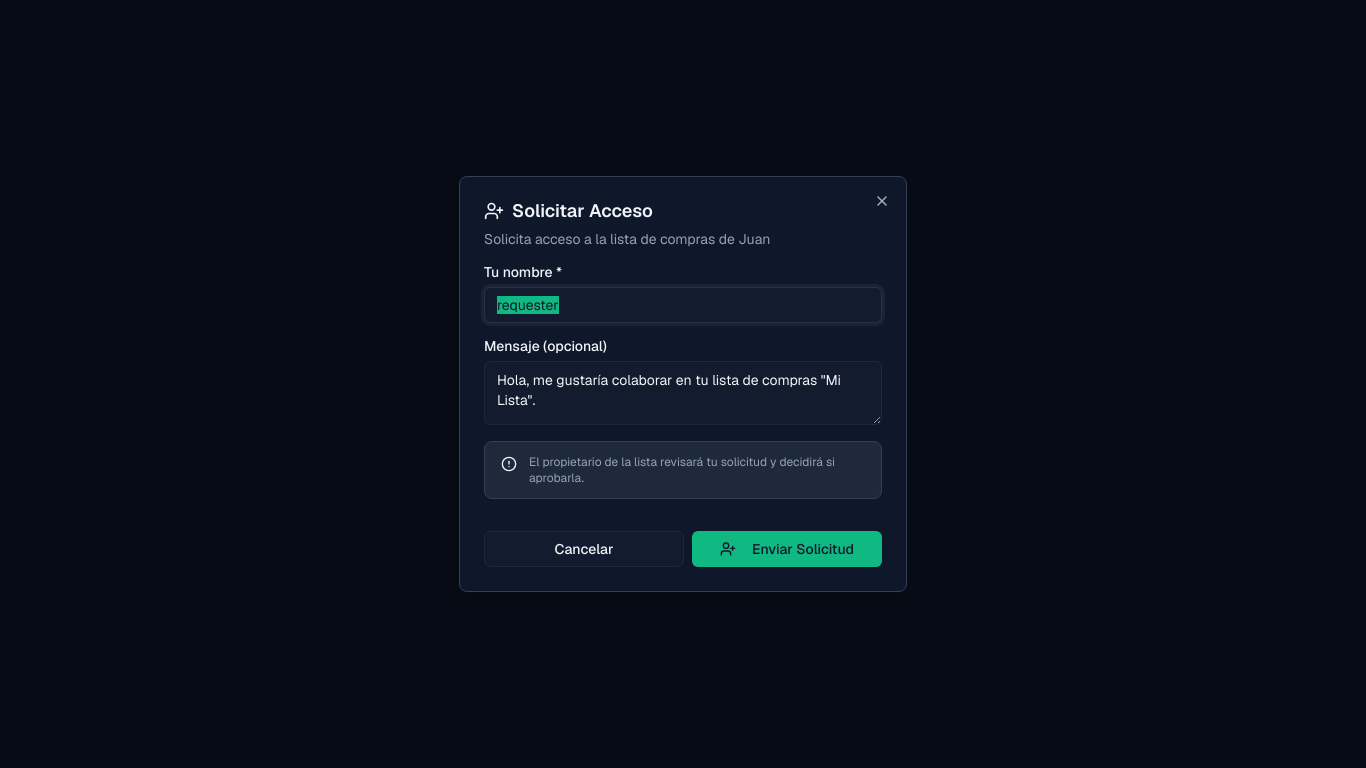
Test case: RequestAccessModal › should handle API error
Replace the text in the field labelled "Tu nombre *" with "María García" at (683, 305), box [484,287,882,323]
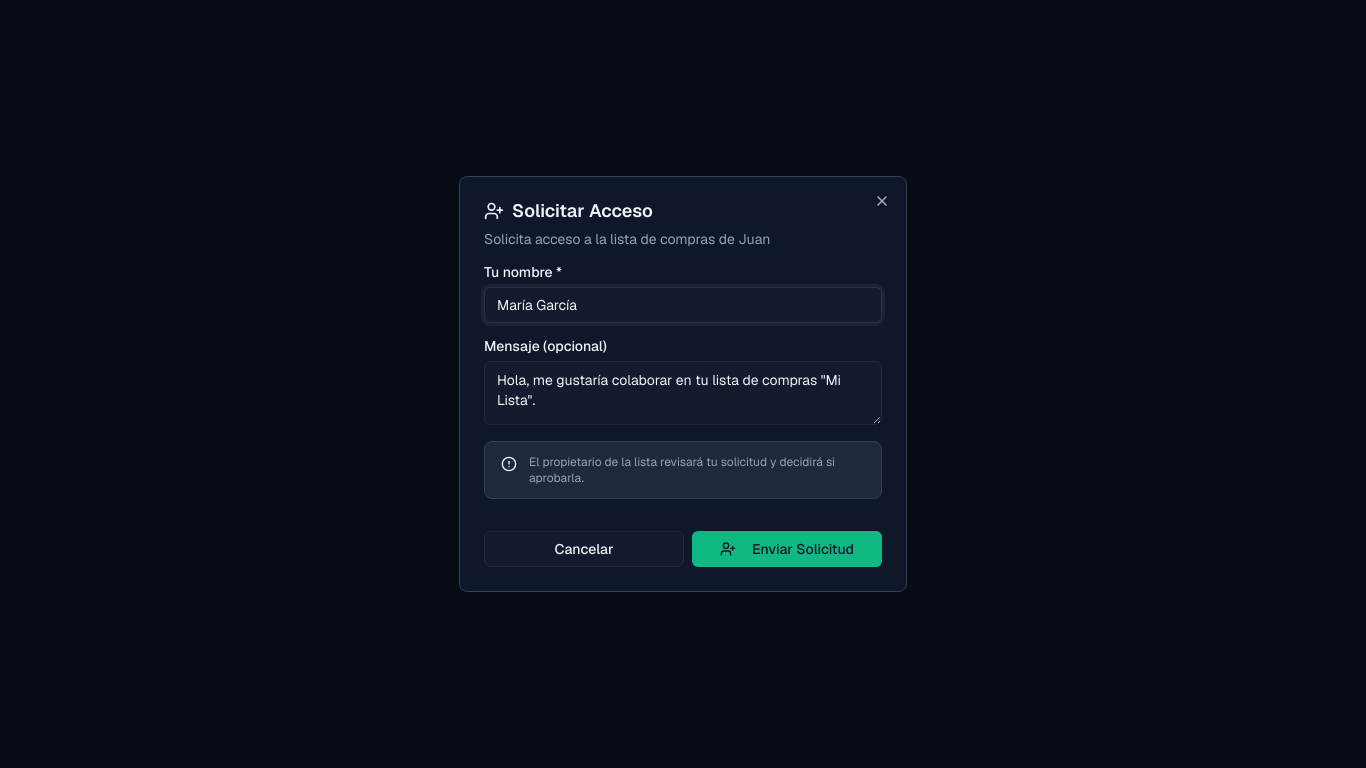
Click the button "Enviar Solicitud" at (787, 549), box [692,531,882,567]
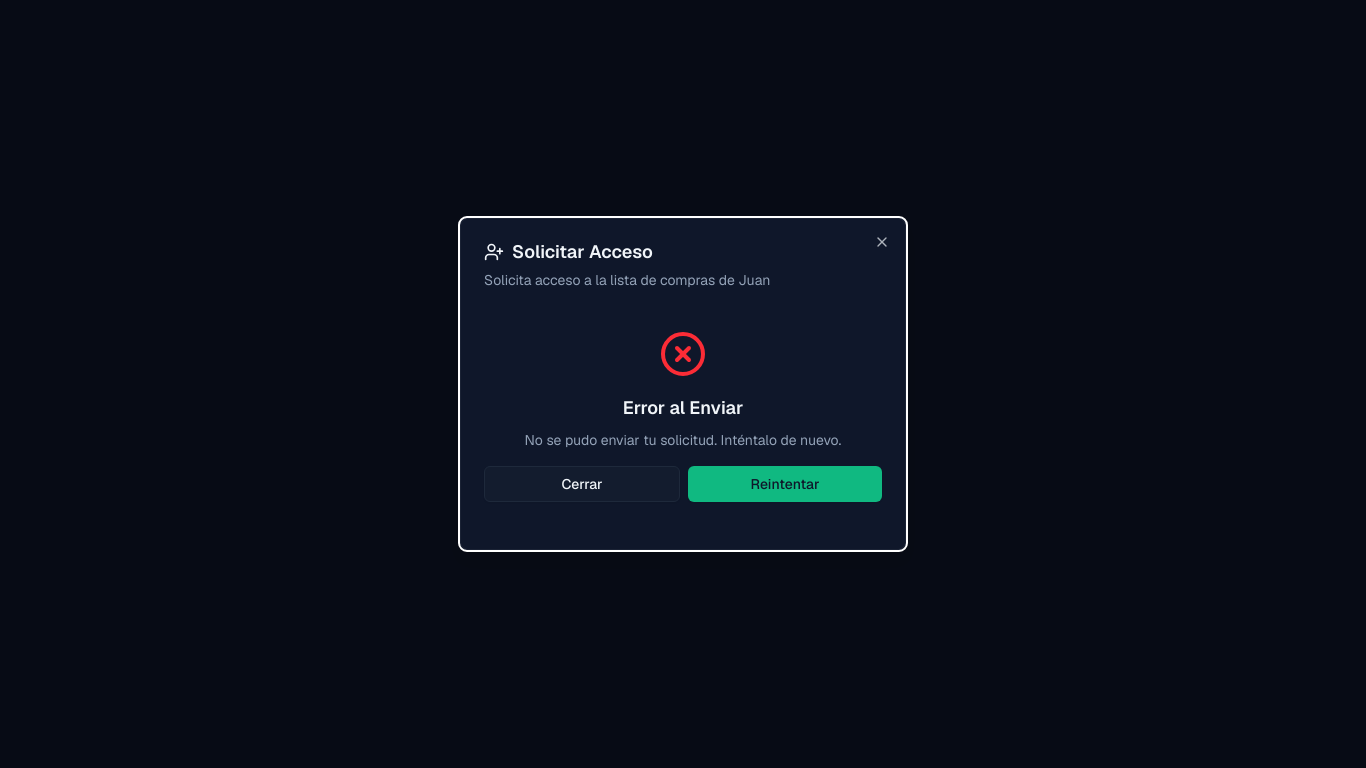
expect the heading "Error al Enviar" is shown: met, box [623,396,743,419]
